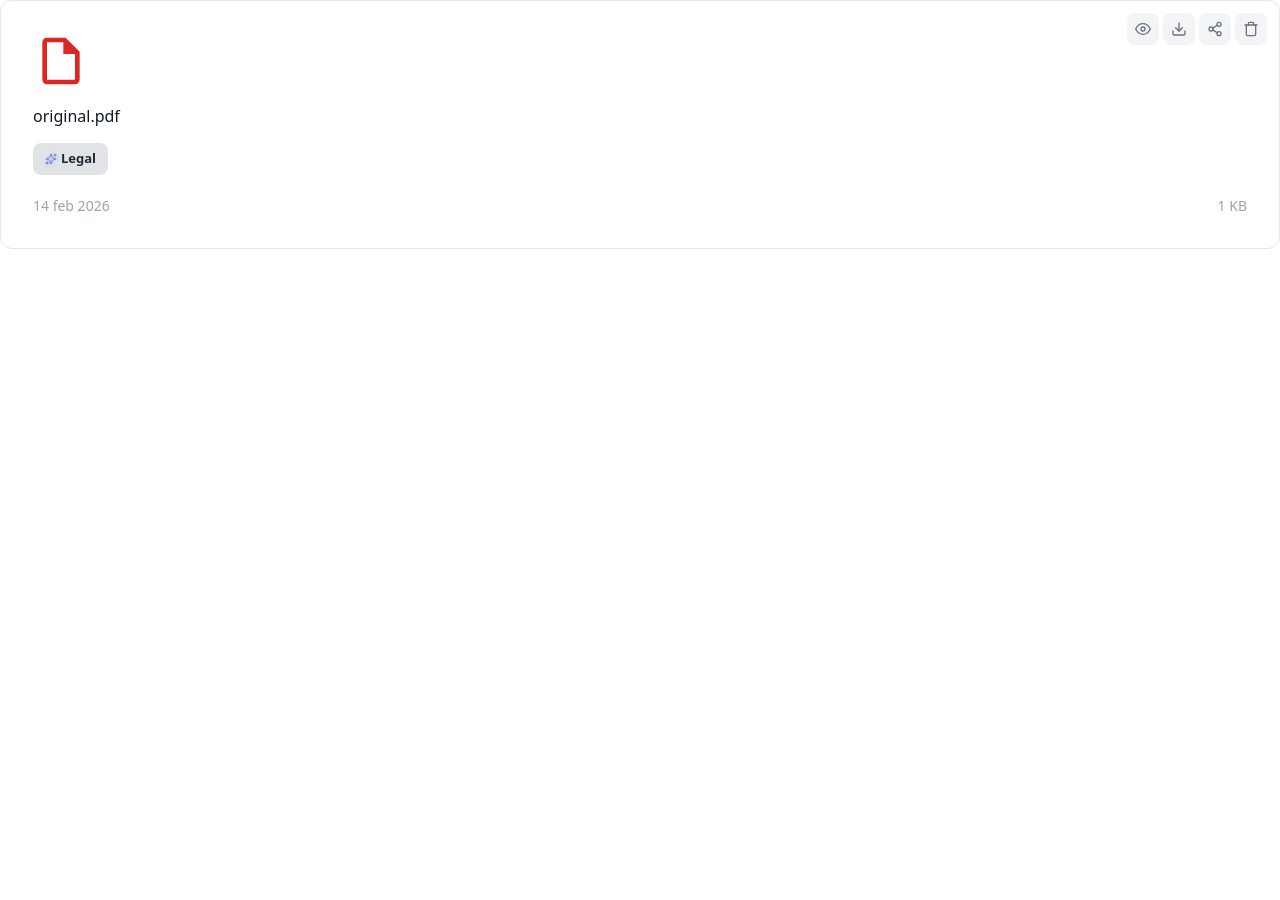
Test: DocumentCard › renders delete button when canDelete is true, opens modal, and Cancel closes it
Click the button titled "Mover a papelera".
click(1251, 29)  # box [1235,13,1267,45]
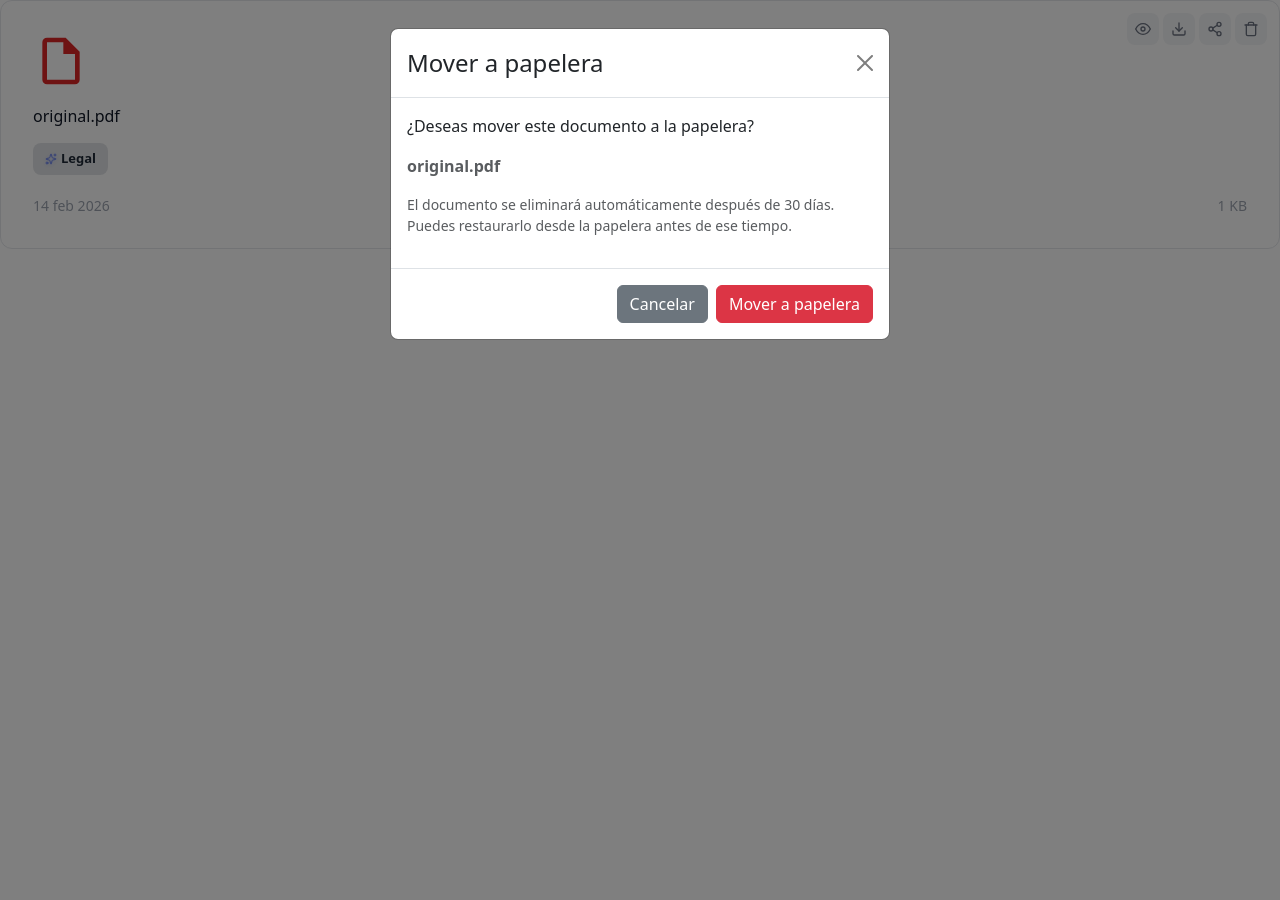
Expected: the text "¿Deseas mover este documento a la papelera?" is shown, [407,115,754,137]
Click the button "Cancelar".
click(662, 304)  # box [617,285,708,323]
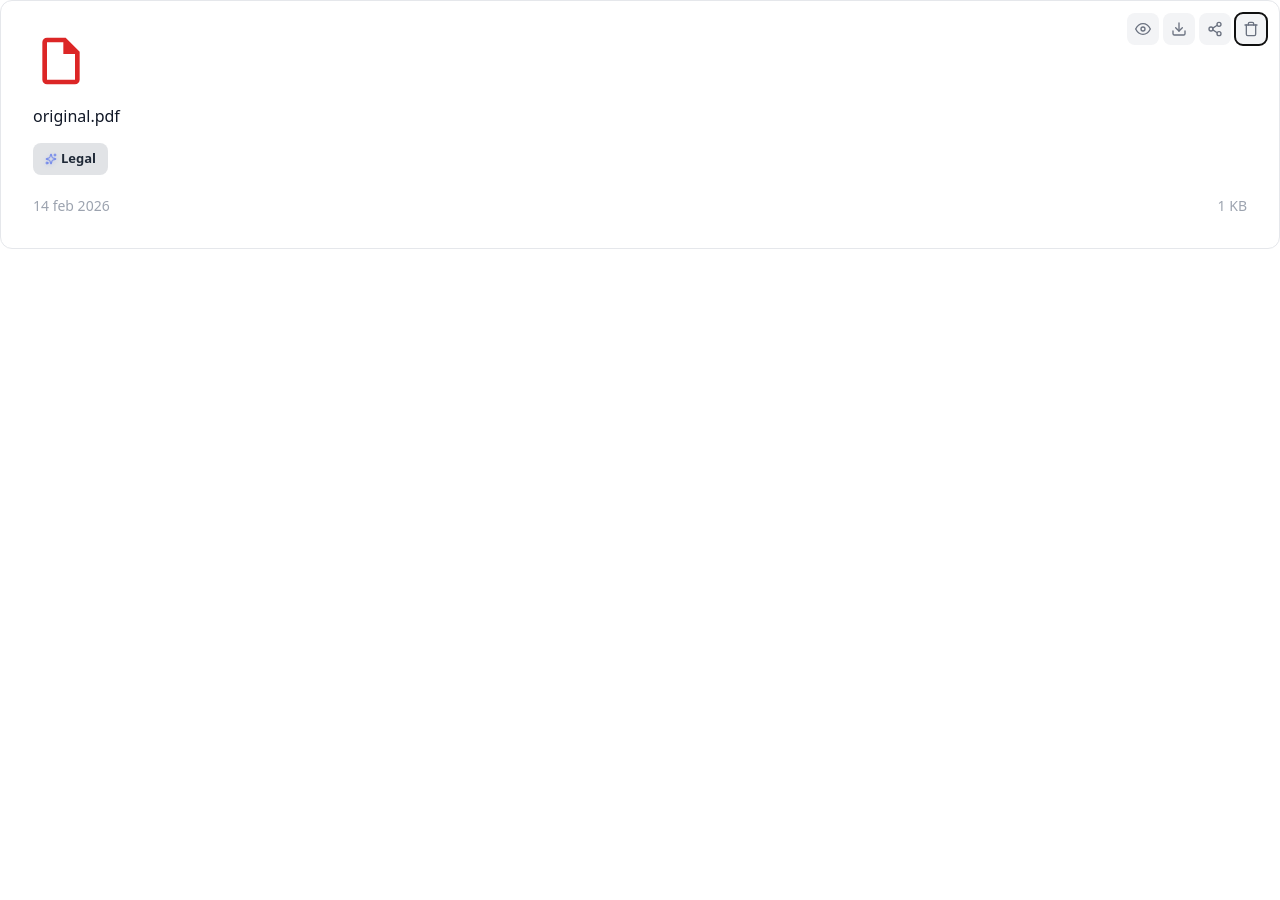
Expected: the text "¿Deseas mover este documento a la papelera?" is gone
